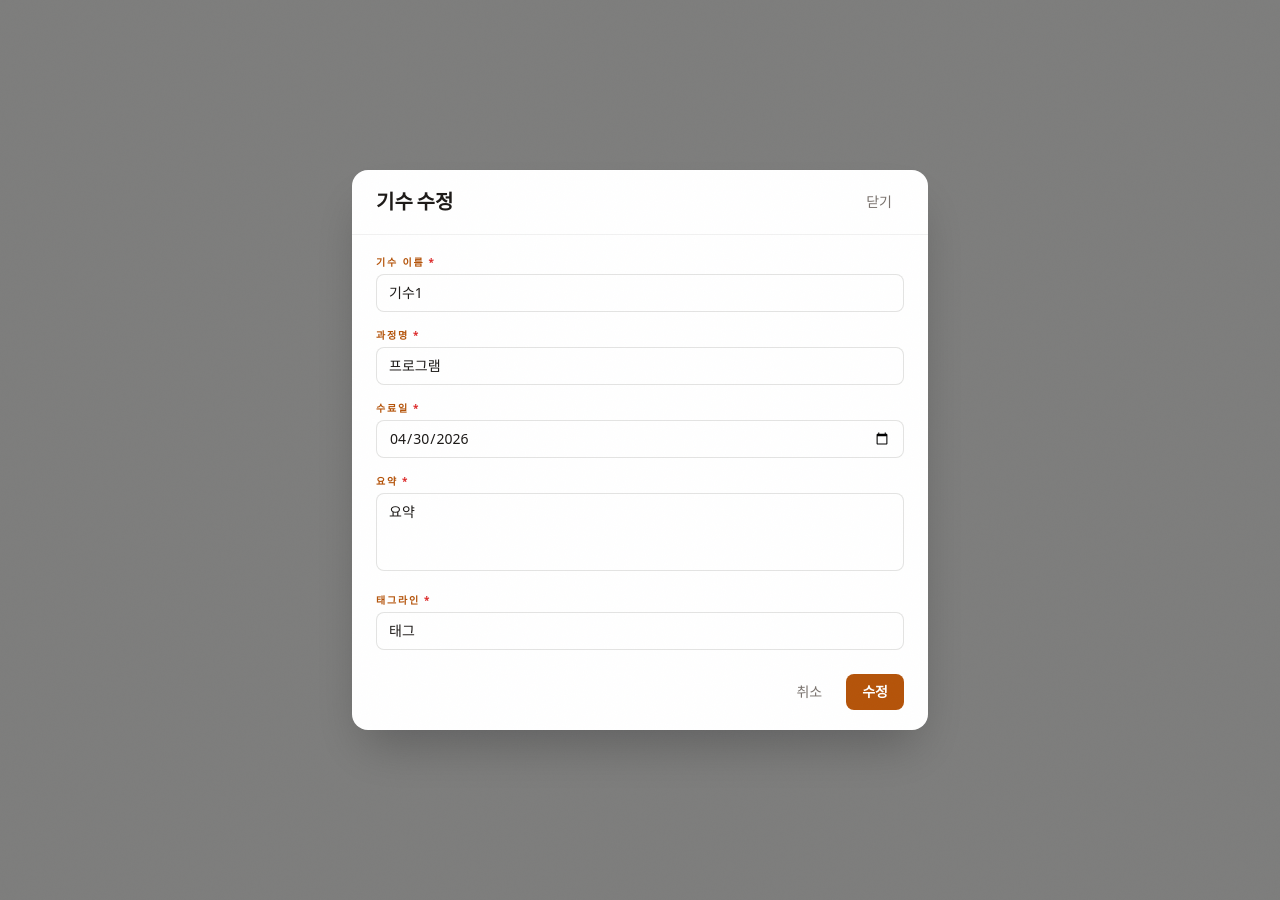
Scenario: CohortFormDialog › 에러 처리 › API 실패 시 에러 메시지가 표시되고 모달이 유지되어야 한다
The image size is (1280, 900).
Click the button "수정".
click(875, 692)  # box [846,674,904,710]
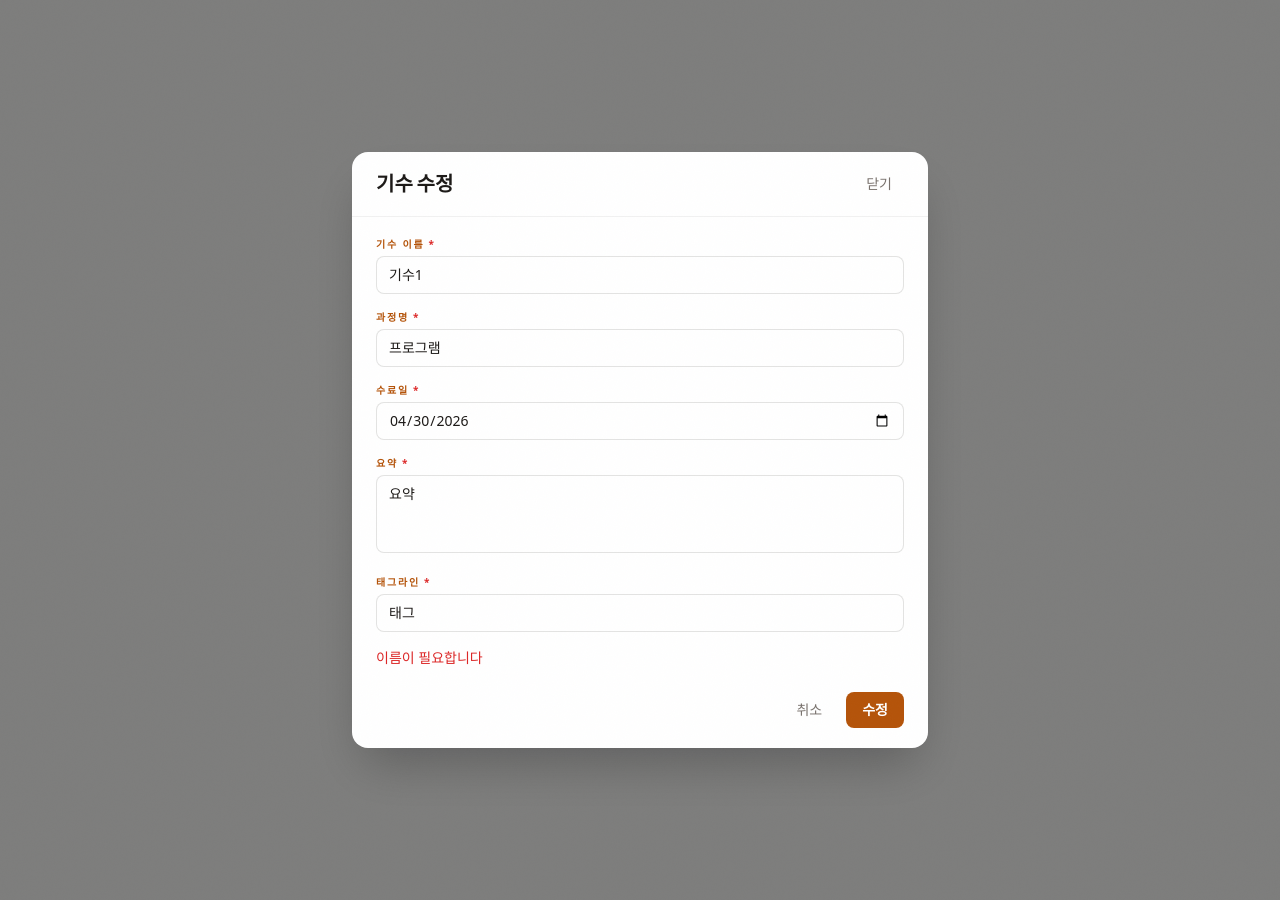
expect the text "이름이 필요합니다" is shown: met, box [376,648,483,667]
